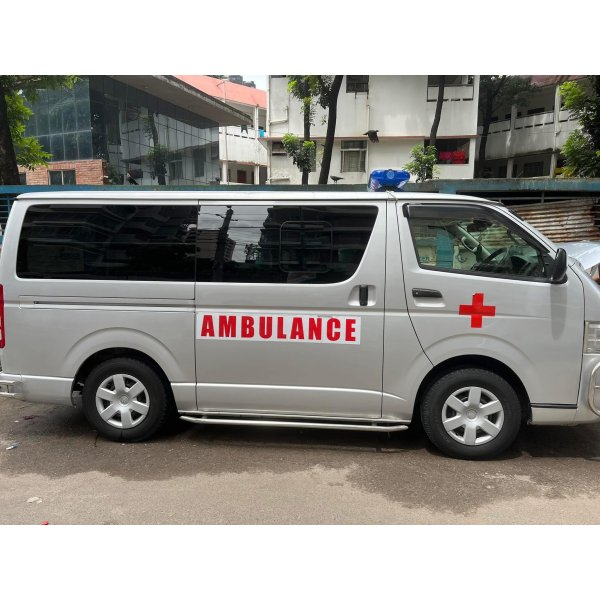Ambulance: (2, 156, 597, 483)
